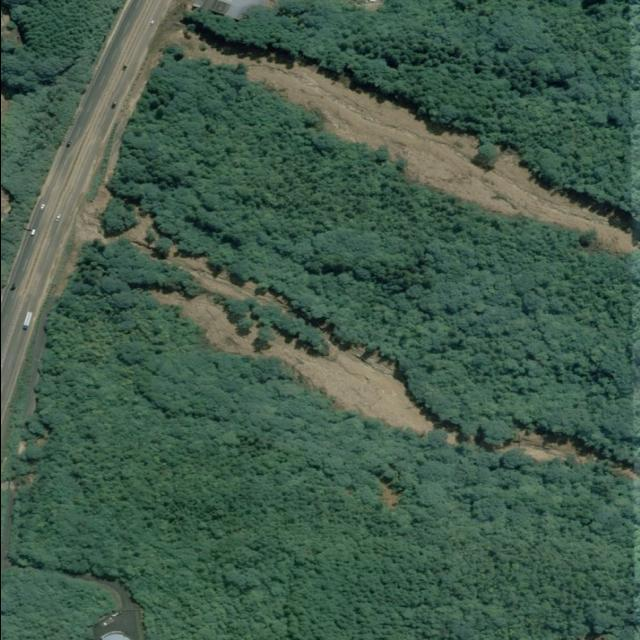landslide: (170, 30, 629, 250), (118, 212, 493, 448), (494, 431, 635, 477)
